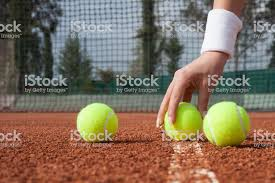tennis_ball: (202, 100, 251, 147), (76, 101, 117, 143), (164, 102, 202, 140)
